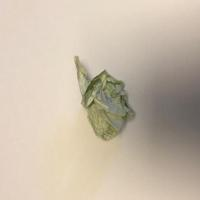paper: (69, 55, 138, 142)
